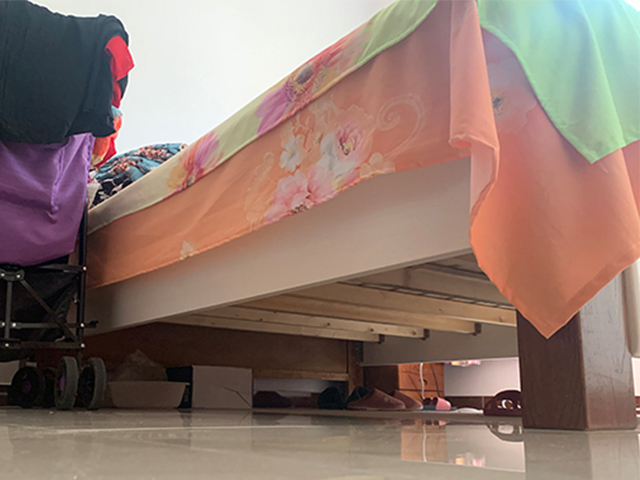bed: (72, 1, 640, 432)
slippers: (319, 388, 405, 413), (483, 389, 523, 418), (420, 394, 454, 413)
